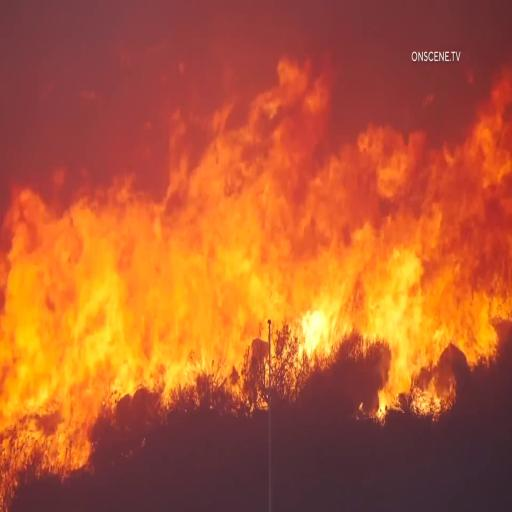fire: (91, 49, 333, 414), (332, 70, 505, 408), (6, 176, 90, 466)
